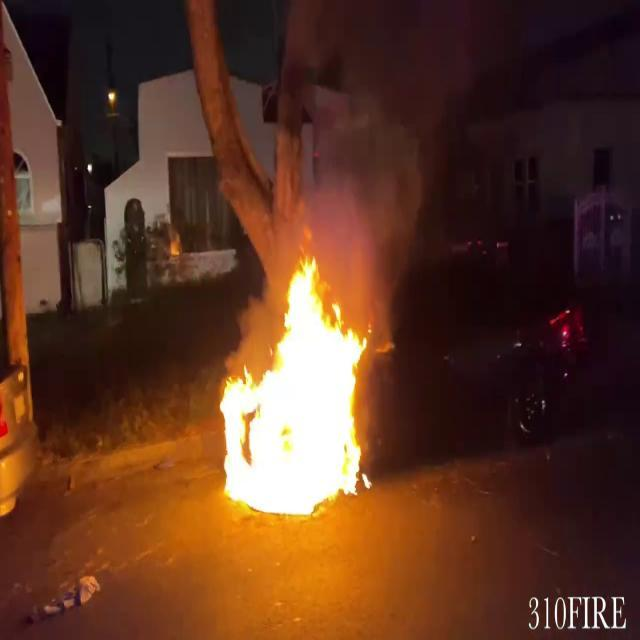Fire: (212, 244, 376, 524)
Smoke: (270, 0, 487, 300)
